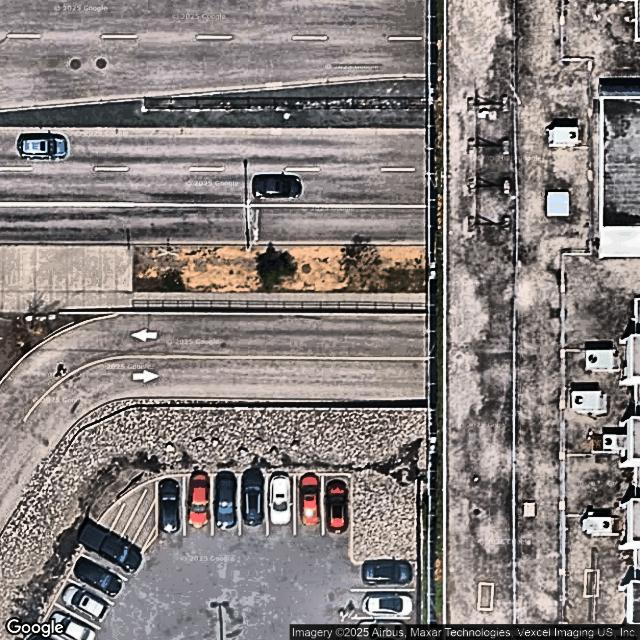car: (74, 520, 146, 577), (71, 553, 127, 599), (59, 582, 113, 624), (47, 605, 100, 639), (241, 468, 265, 527), (215, 472, 238, 528), (188, 471, 210, 529), (270, 474, 293, 526), (327, 478, 349, 532), (362, 563, 414, 585), (360, 593, 412, 615), (300, 471, 320, 528), (160, 479, 180, 534), (357, 621, 412, 637)
lot_boundary: (29, 475, 418, 639)
stall: (81, 524, 143, 581), (68, 553, 130, 605), (57, 578, 113, 626), (44, 604, 99, 639), (352, 589, 416, 618), (184, 474, 213, 535), (353, 562, 416, 590), (295, 475, 323, 537), (267, 475, 295, 536), (323, 475, 351, 536), (213, 474, 240, 536), (240, 475, 267, 536), (159, 476, 186, 537), (352, 618, 415, 639)
